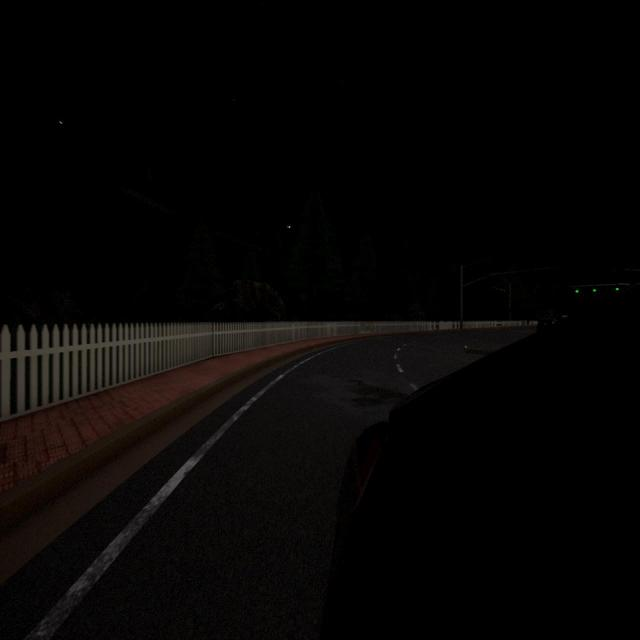Vehicle: (321, 288, 640, 640)
traffic_light: (575, 286, 579, 294), (616, 284, 619, 292), (593, 285, 596, 292)
